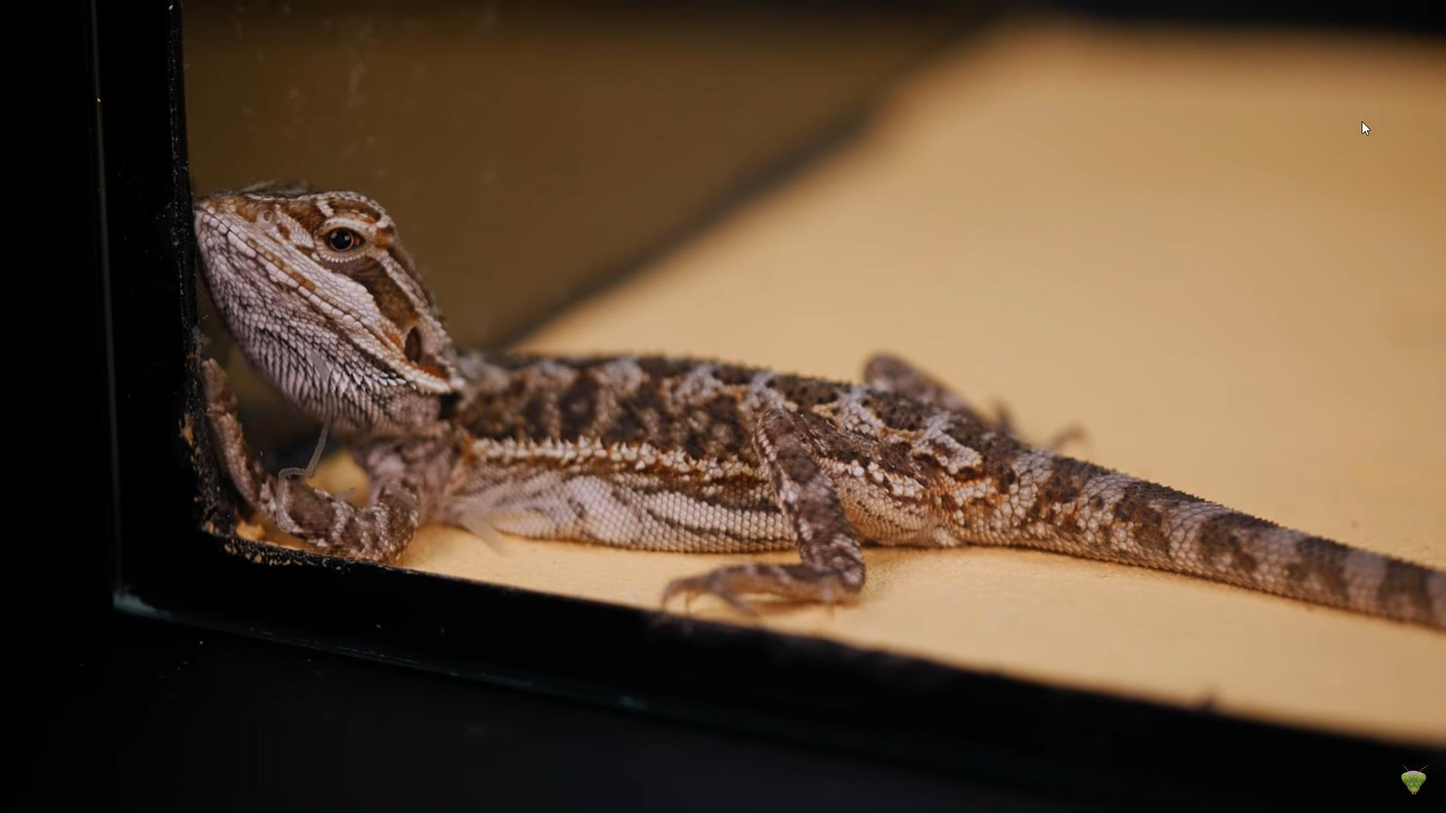lizard: (176, 161, 1264, 661)
